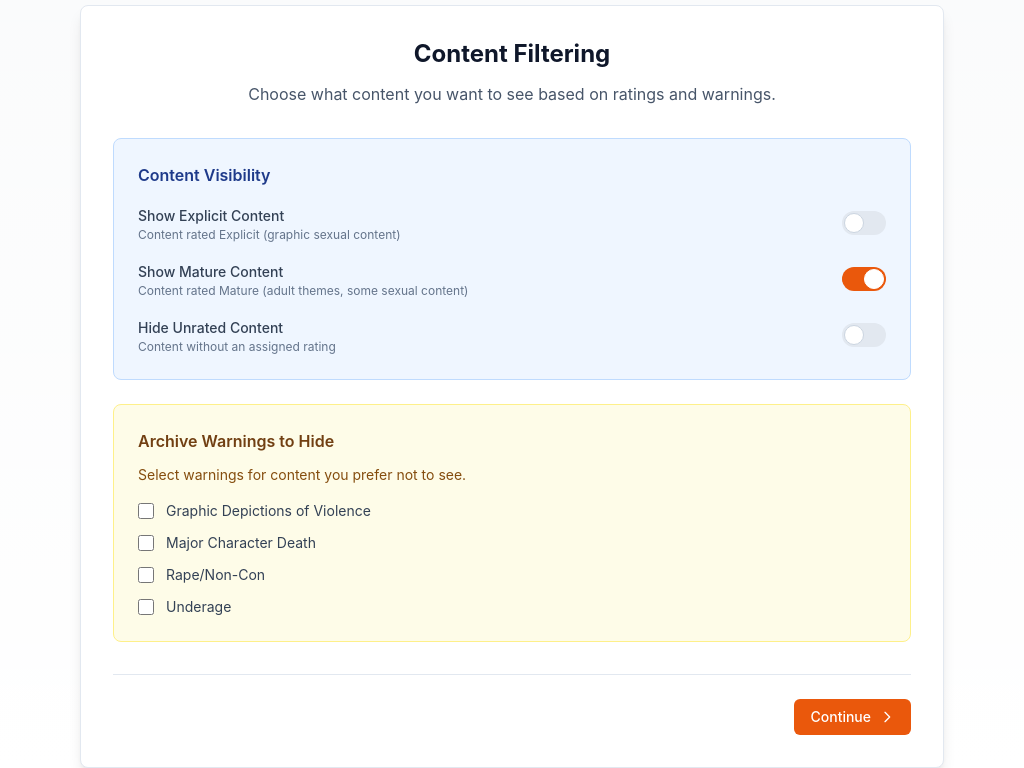
Test: PrivacyWizard › can navigate backwards through steps
(page scrolled)
Go to step 2
Click the button "Continue": click(853, 717) [794,699,911,735]
(page scrolled)
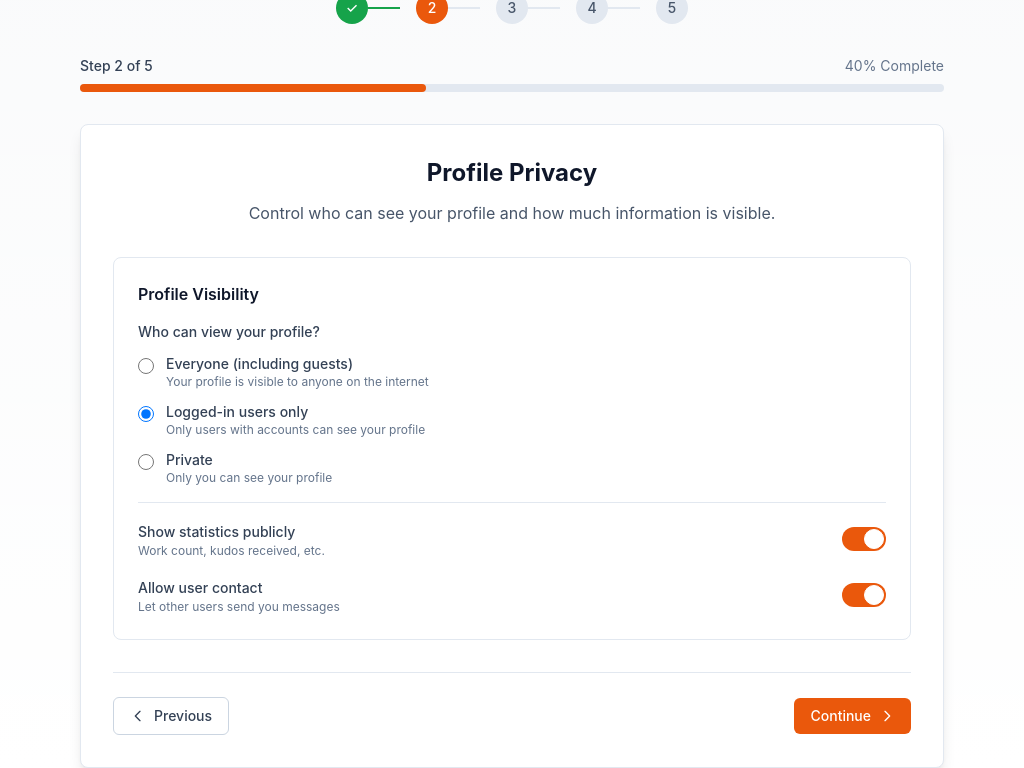
Result: the heading "Profile Privacy" is shown at [427,158,597,187]
Go back to step 1
Click the button "Previous": click(171, 716) [113,697,229,735]
(page scrolled)
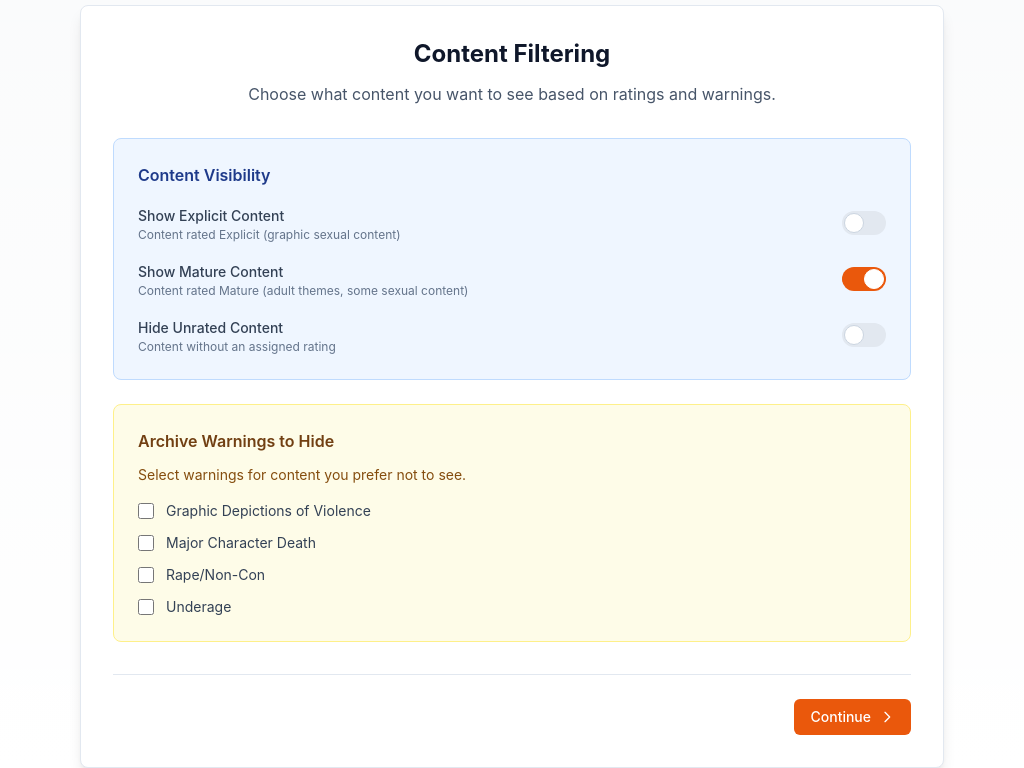
Result: the heading "Content Filtering" is shown at [414,39,610,68]
